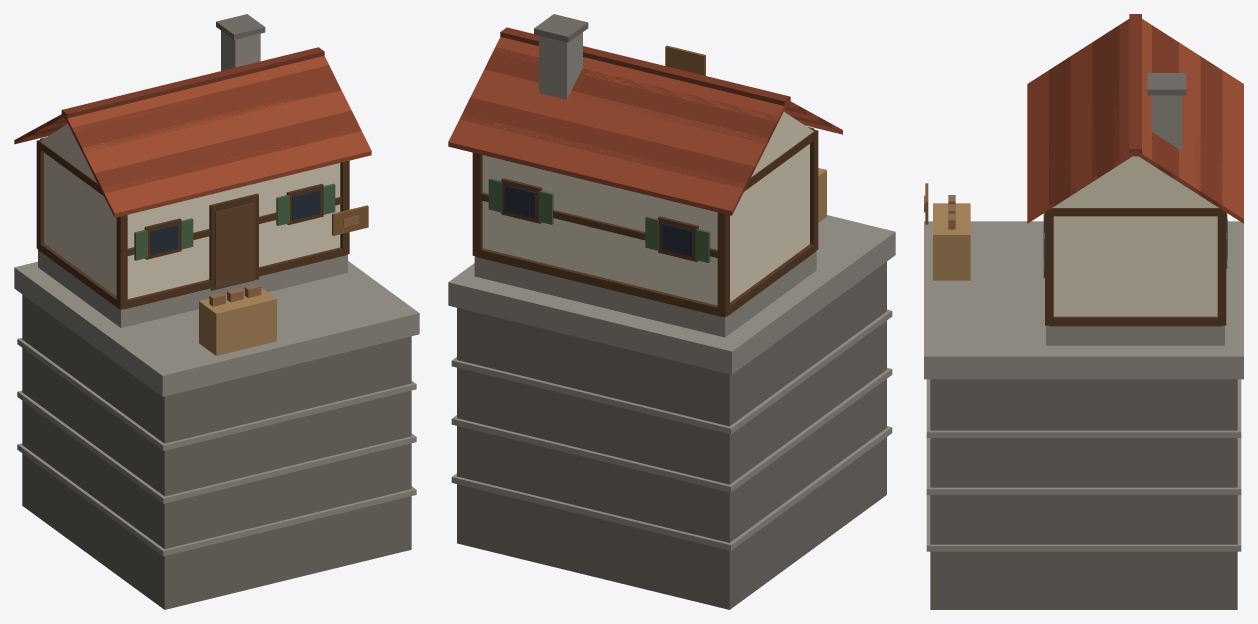
Rendered from cobbler.glb.
3 views of the same model, side by side, from view 1: azimuth 30°, elevation 25°; view 2: azimuth 150°, elevation 25°; view 3: azimuth 270°, elevation 25° (orthographic). The views are drawn at different scales.
Visible parts, largest first — view 1: cobbler; view 2: cobbler; view 3: cobbler.
Boxes of the visible parts, <box> form: cobbler: <box>14,14,419,609</box>; cobbler: <box>448,14,895,609</box>; cobbler: <box>924,14,1243,609</box>.
Size of the model in its own units: 5.1 by 8.72 by 5.1.
